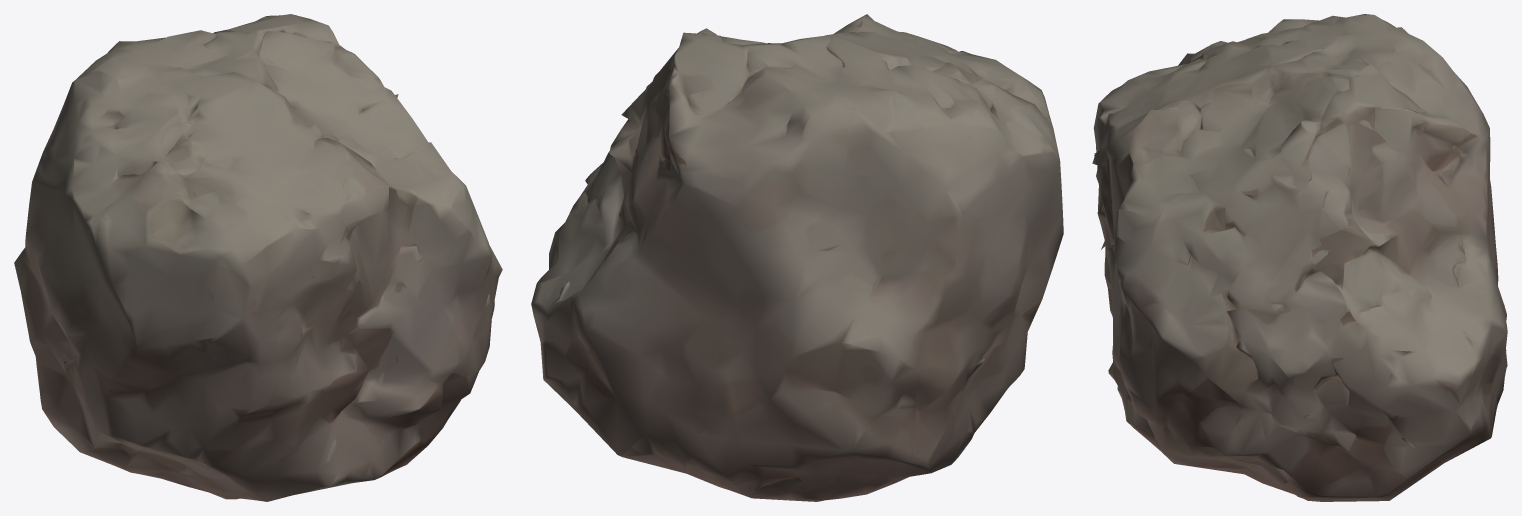
The model's file is ore_rock.glb.
3 renders of one model, left to right at view 1: azimuth 30°, elevation 25°; view 2: azimuth 150°, elevation 25°; view 3: azimuth 270°, elevation 25°, orthographic. The views are drawn at different scales.
Visible parts, largest first — view 1: tripo_node_7db68e0c-9555-470b-b9c8-348414f0b79b; view 2: tripo_node_7db68e0c-9555-470b-b9c8-348414f0b79b; view 3: tripo_node_7db68e0c-9555-470b-b9c8-348414f0b79b.
Part boxes in pixels (x1,y1,x2,y2): tripo_node_7db68e0c-9555-470b-b9c8-348414f0b79b: (14,14,502,501); tripo_node_7db68e0c-9555-470b-b9c8-348414f0b79b: (531,14,1063,501); tripo_node_7db68e0c-9555-470b-b9c8-348414f0b79b: (1092,14,1507,501).
Size of the model in its own units: 1 by 0.9499 by 0.9207.
1 material, 1 textured.
